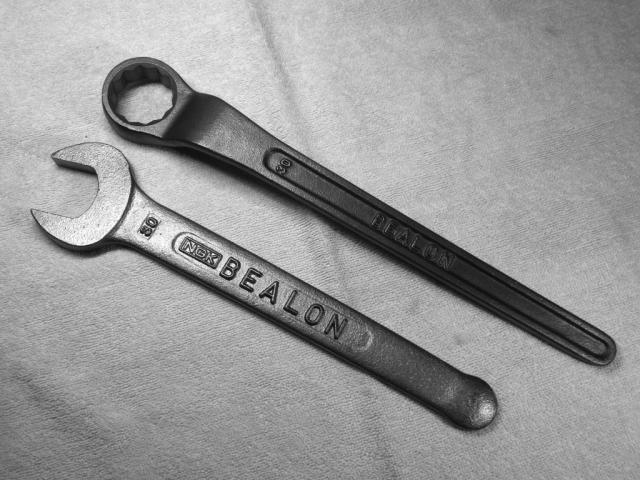Wrench: (102, 58, 616, 365), (31, 142, 498, 429)
